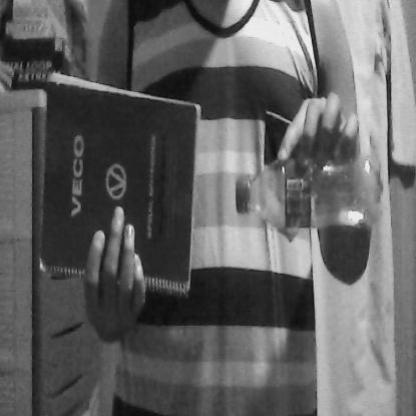Plastic Bottle: (231, 147, 387, 244)
